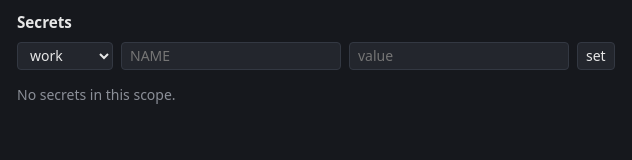
Scenario: a response for the previous scope never replaces the current one
Select "personal" in the dropdown named "secret scope": (65, 56) [17,42,113,70]
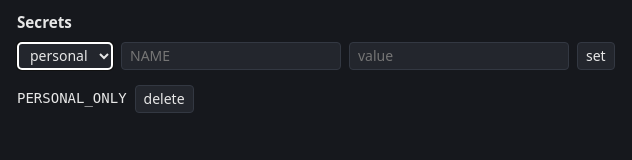
Result: the text "PERSONAL_ONLY" is shown at [17,88,127,109]
